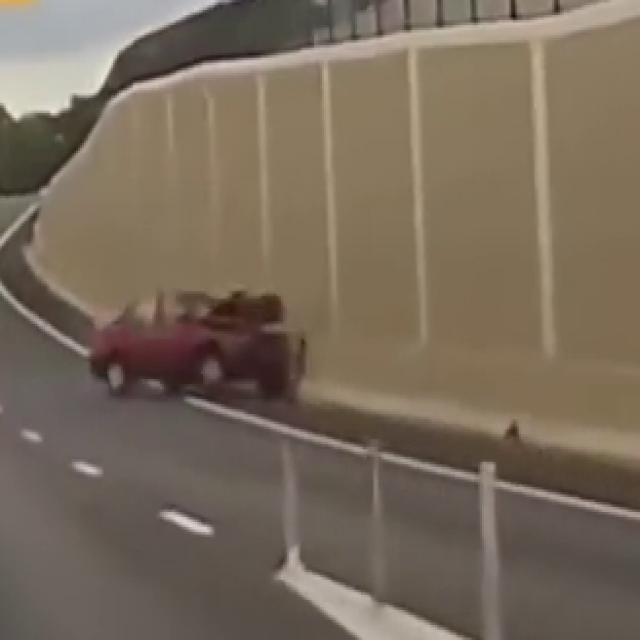accident: (68, 272, 314, 412)
